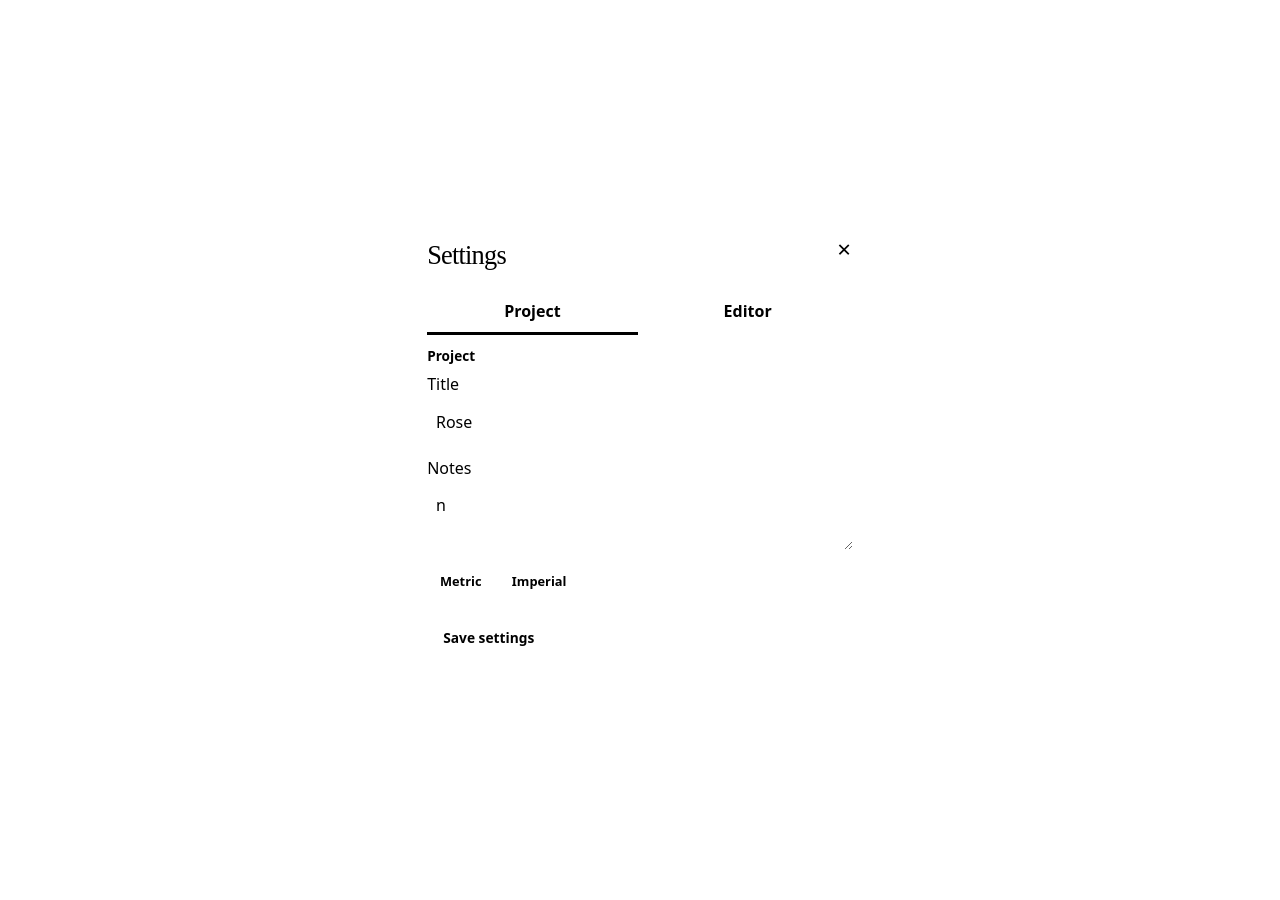
Scenario: PatternSettingsDialog › opens the pencil mode tip on click without toggling pencil mode
Click the tab "Editor". click: click(748, 312)
box: [642,290,853,335]
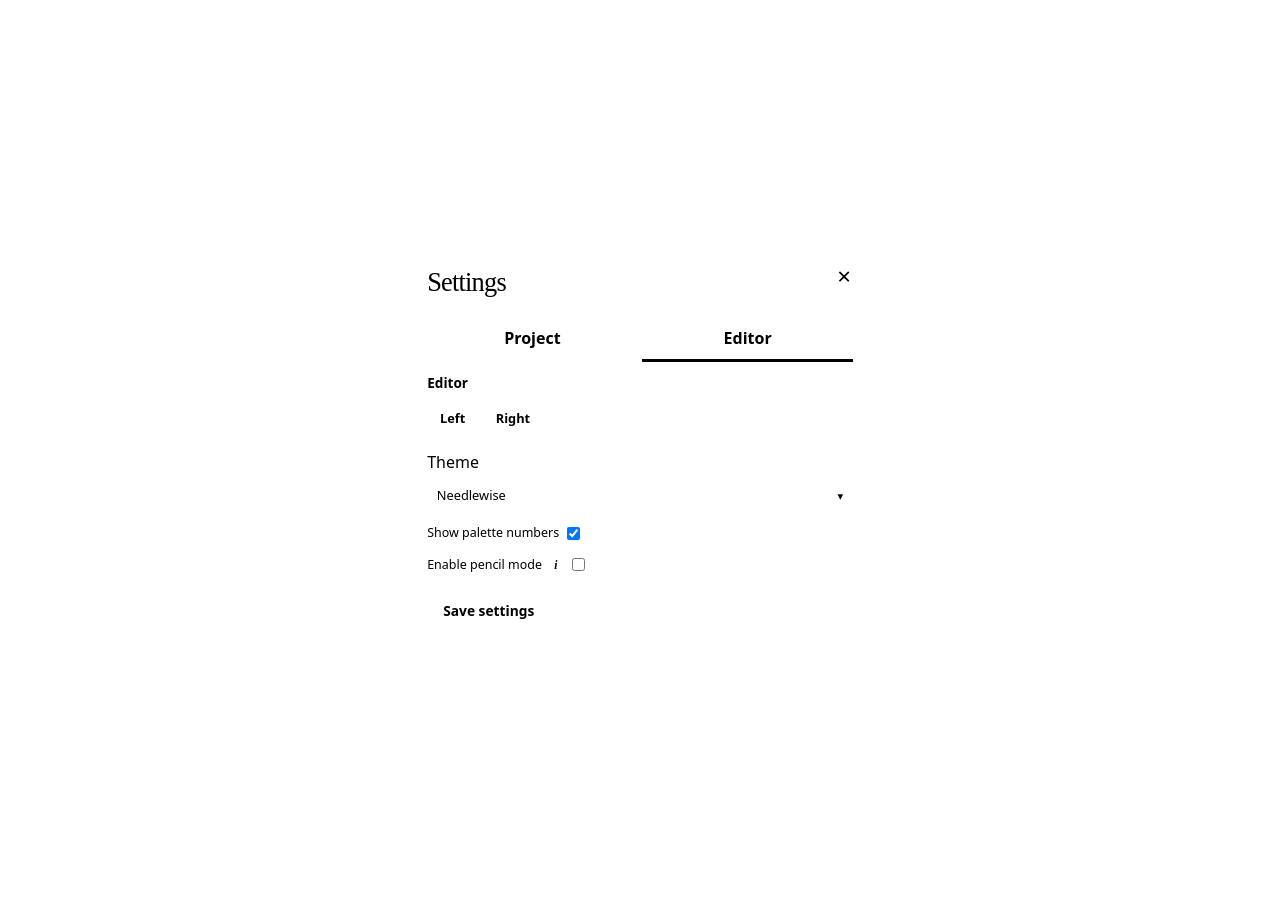
Click the button named "Pencil mode information". click: click(556, 565)
box: [548,556,564,573]
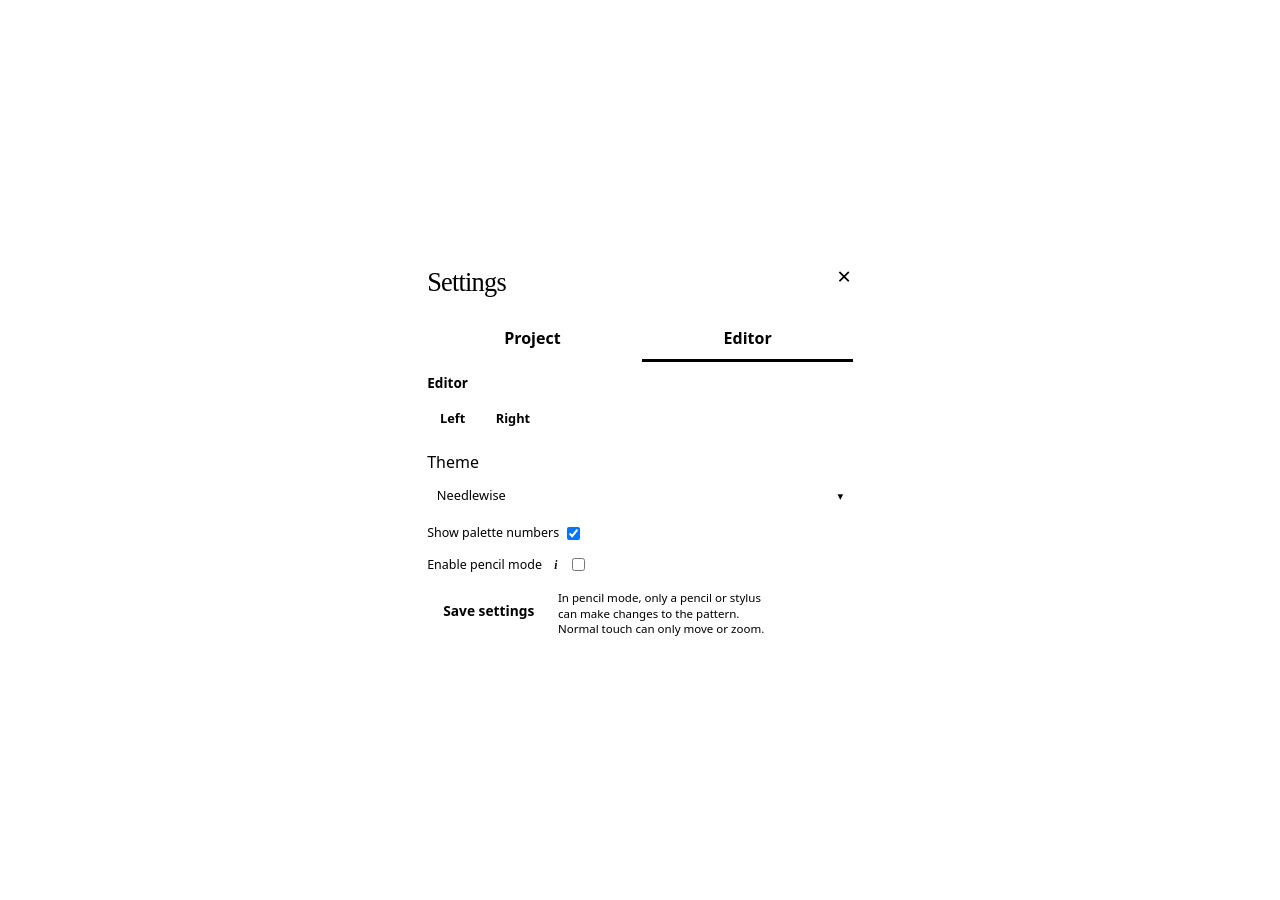
Now the tooltip is shown, box [548,581,788,646]
